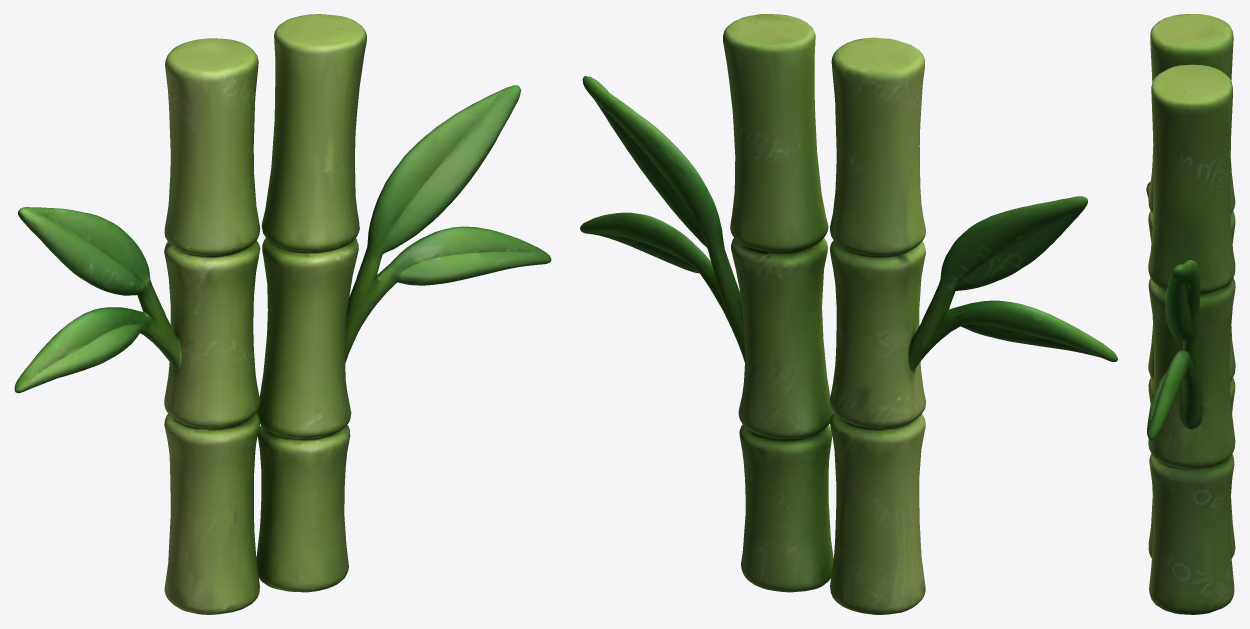
File: bamboo_pbr.glb
The picture shows the model from 3 angles, left to right: view 1: azimuth 30°, elevation 25°; view 2: azimuth 150°, elevation 25°; view 3: azimuth 270°, elevation 25°; orthographic projection. The views are drawn at different scales.
Parts seen in each view (by area): view 1: model; view 2: model; view 3: model.
Part boxes in pixels (x1,y1,x2,y2): model: [14, 14, 551, 614]; model: [580, 14, 1117, 614]; model: [1146, 14, 1235, 614].
Size of the model in its own units: 1.88 by 1.82 by 0.2797.
1 material, 1 textured.
